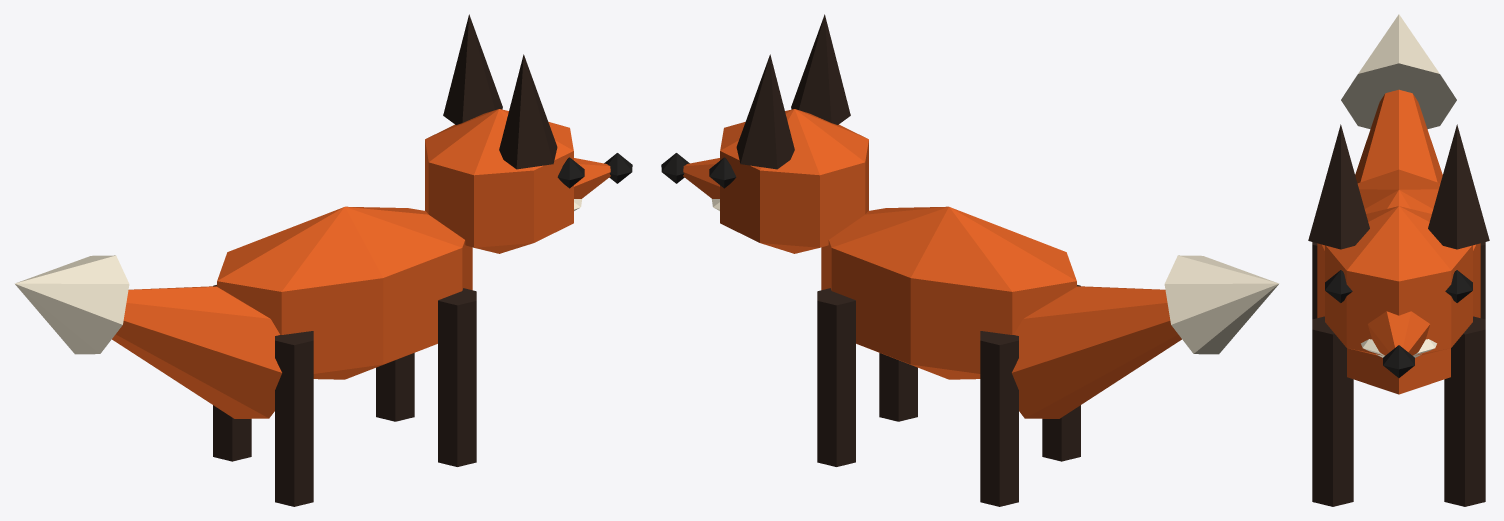
The model's file is fox.obj.
The picture shows the model from 3 angles, left to right: view 1: azimuth 30°, elevation 25°; view 2: azimuth 150°, elevation 25°; view 3: azimuth 270°, elevation 25°; orthographic projection. The views are drawn at different scales.
Bounding box in the file's own units: 2.88 × 1.71 × 0.6873.
4 materials, 4 textured.
